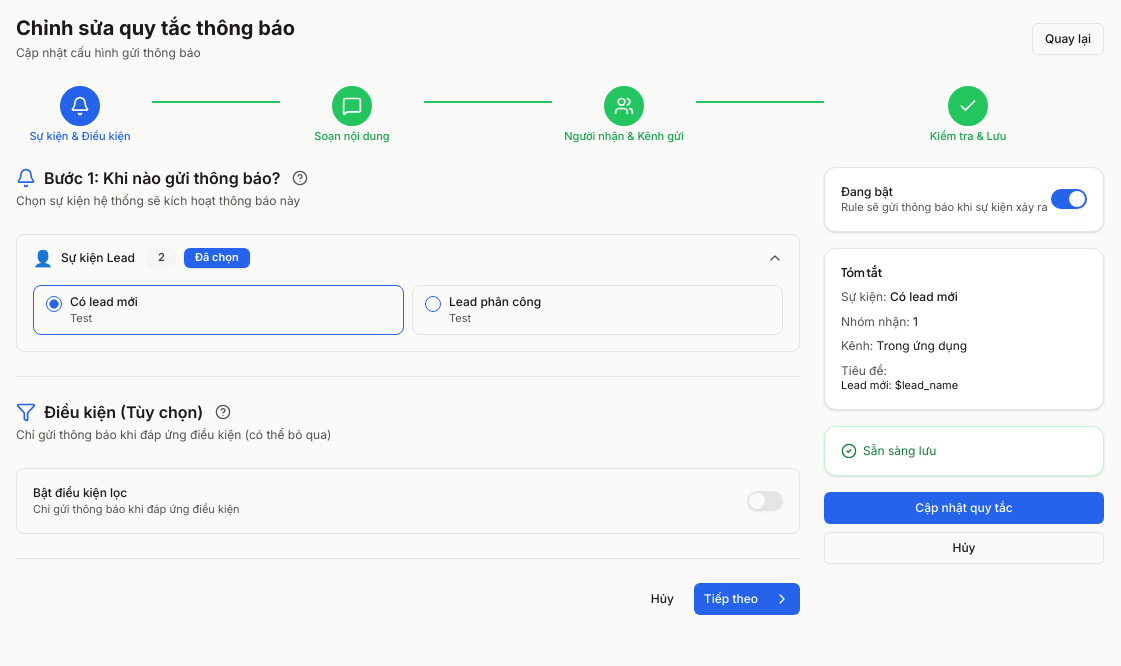
Test: NotificationRuleEditor — edit mode › allows navigating to any step in edit mode (all steps accessible)
Click the button titled "Kiểm tra & Lưu". click: (968, 106)
box: [948, 86, 988, 126]
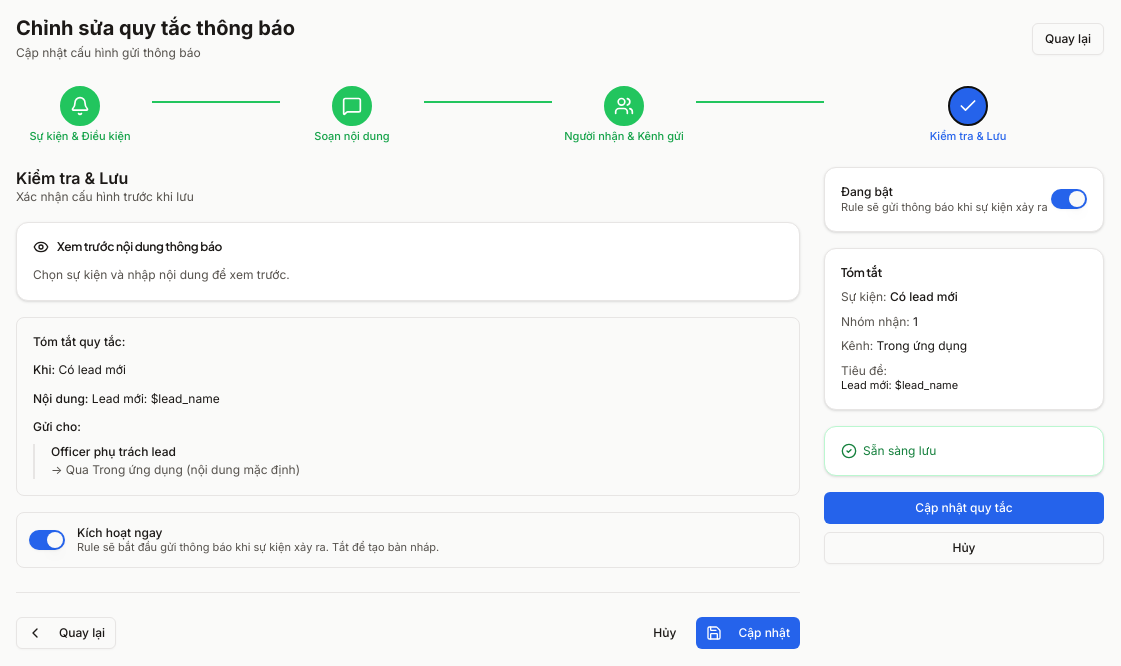
expect the text "Tóm tắt quy tắc:" is shown: met, box [33, 334, 125, 349]
